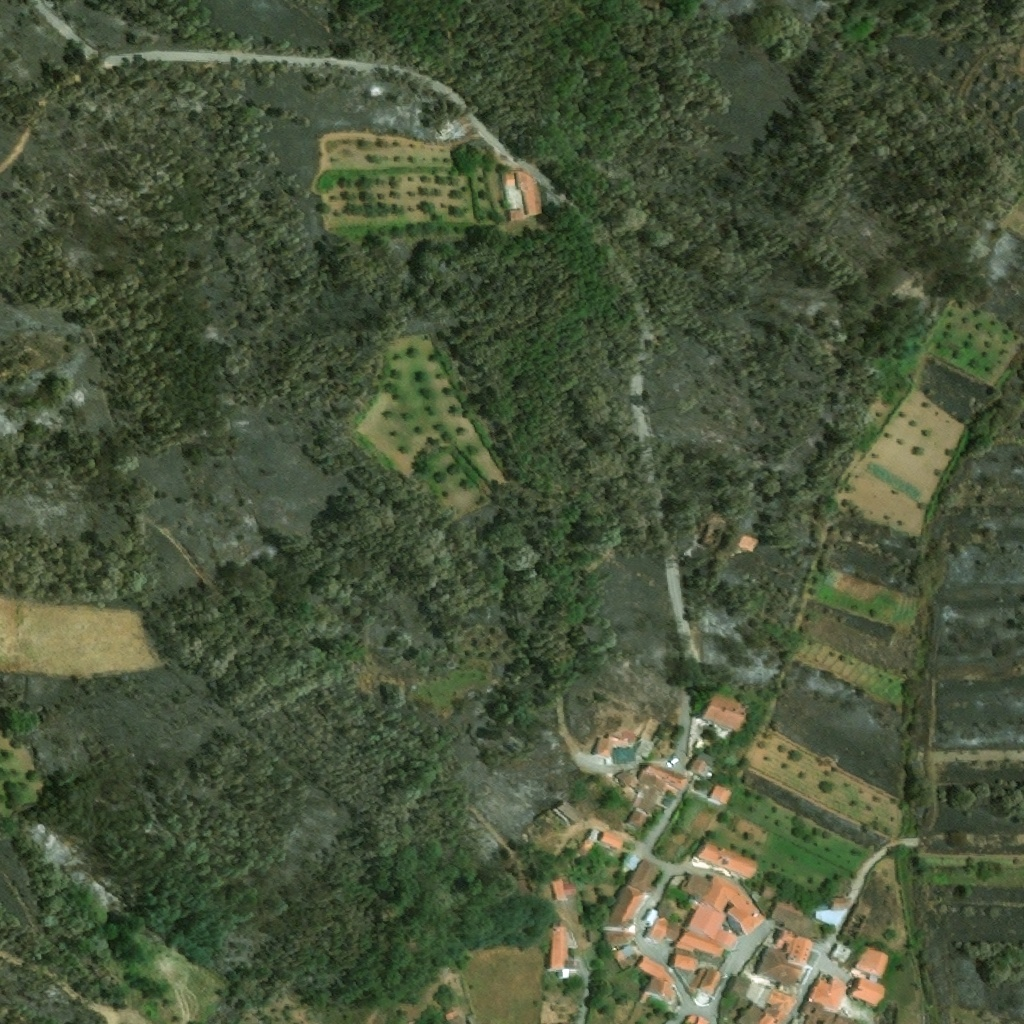0 no-damage: (682, 873, 767, 935), (729, 974, 798, 1023), (757, 930, 813, 990), (616, 770, 660, 831), (697, 843, 760, 879), (688, 903, 737, 949), (767, 897, 818, 941), (637, 956, 676, 1007), (604, 884, 646, 929), (501, 171, 542, 217), (703, 693, 750, 733), (621, 851, 662, 895), (636, 763, 688, 795), (547, 928, 580, 978), (674, 931, 723, 958), (687, 968, 727, 1000), (807, 978, 846, 1010), (814, 897, 851, 929), (853, 947, 888, 980), (592, 730, 631, 758), (850, 976, 884, 1008), (647, 918, 681, 944), (799, 997, 833, 1023), (556, 800, 584, 826), (550, 878, 577, 903), (708, 781, 734, 805), (603, 928, 635, 946), (613, 944, 634, 971), (634, 735, 655, 758), (576, 837, 597, 858), (600, 831, 624, 849), (674, 954, 698, 972), (690, 757, 710, 777), (758, 884, 779, 900), (657, 902, 672, 919), (644, 908, 658, 924), (615, 752, 635, 762), (684, 1015, 708, 1023), (509, 210, 523, 222), (587, 930, 598, 943)
